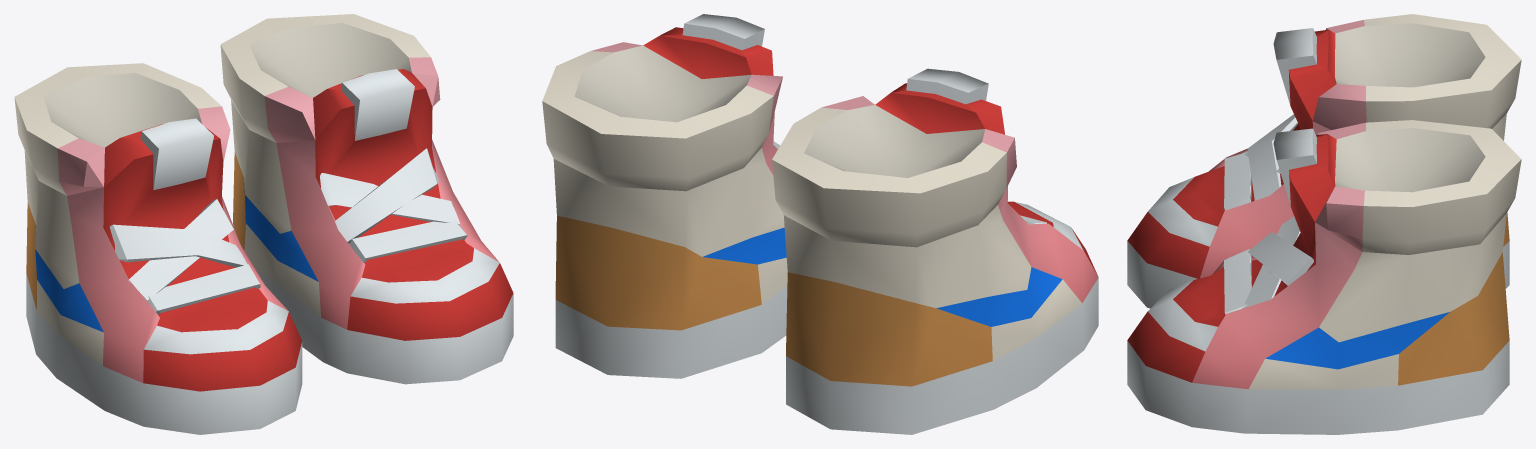
The model's file is Shoes_9.fbx.
3 views of the same model, side by side, from view 1: azimuth 30°, elevation 25°; view 2: azimuth 150°, elevation 25°; view 3: azimuth 270°, elevation 25° (orthographic). The views are drawn at different scales.
Parts seen in each view (by area): view 1: Shoes_9; view 2: Shoes_9; view 3: Shoes_9.
Part boxes in pixels (left/top/right/bottom): Shoes_9: left=14, top=14, right=513, bottom=434; Shoes_9: left=542, top=14, right=1098, bottom=434; Shoes_9: left=1127, top=14, right=1521, bottom=434.
Bounding box in the file's own units: 40.85 × 23.4 × 34.02.
